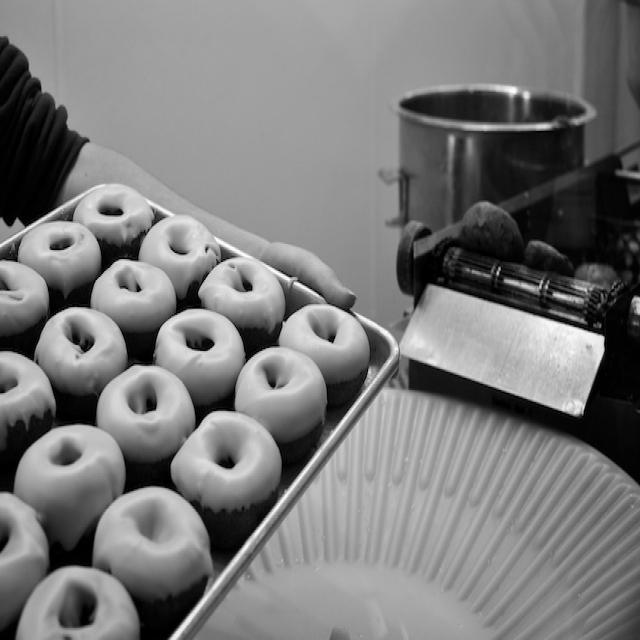monkey: (0, 30, 371, 324)
